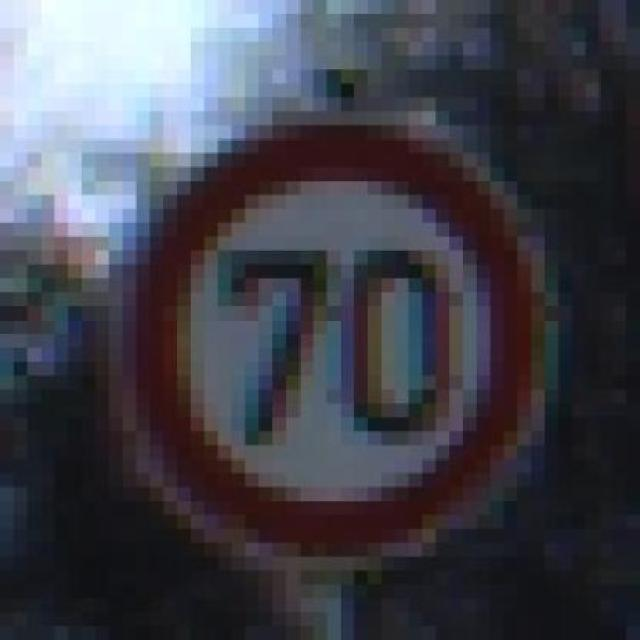forb_speed_over_70: (120, 124, 545, 548)
